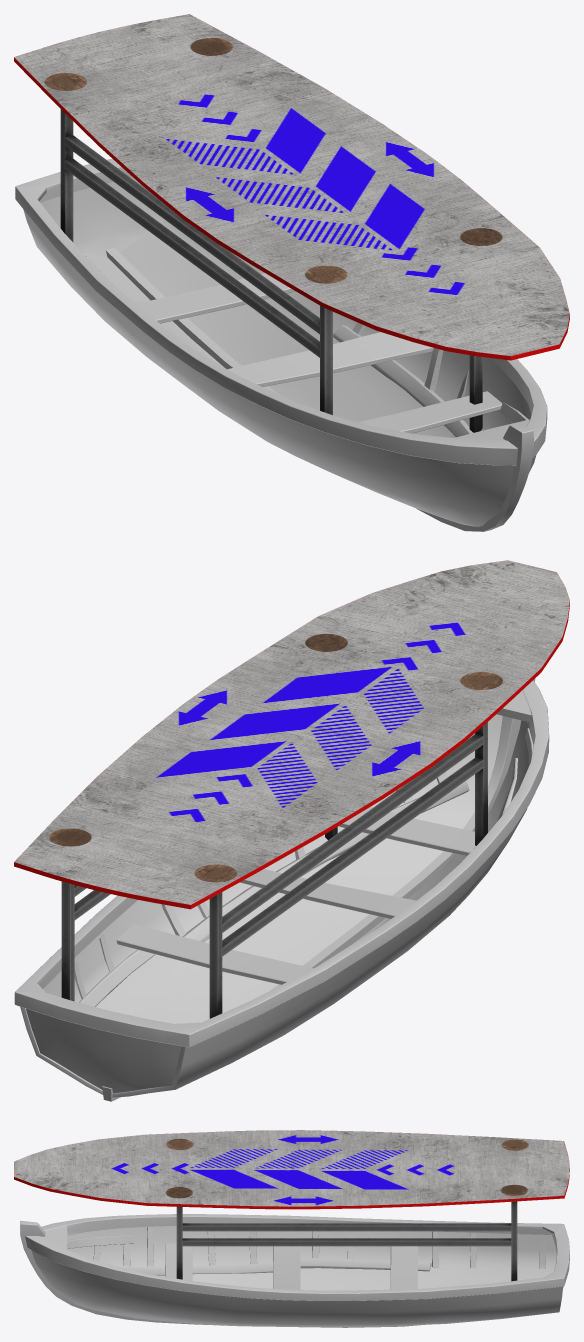
File: Boat.FBX
The picture shows the model from 3 angles, top to bottom: view 1: azimuth 30°, elevation 25°; view 2: azimuth 150°, elevation 25°; view 3: azimuth 270°, elevation 25°; orthographic projection. The views are drawn at different scales.
Visible parts, largest first — view 1: Boat; view 2: Boat; view 3: Boat.
Part boxes in pixels (x1,y1,x2,y2): Boat: [14, 14, 569, 531]; Boat: [14, 560, 569, 1101]; Boat: [14, 1130, 569, 1327].
Size of the model in its own units: 59.95 by 57.28 by 182.
